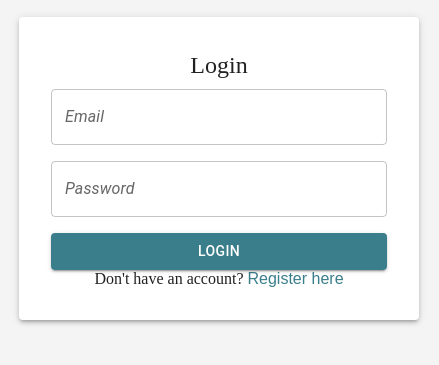
Test: LoginForm Component › shows error when email is not registered
The image size is (439, 365).
Type "nonexistent@example.com" into the field labelled "Email".
click(219, 117); type("nonexistent@example.com")  # box x1=51 y1=89 x2=387 y2=145
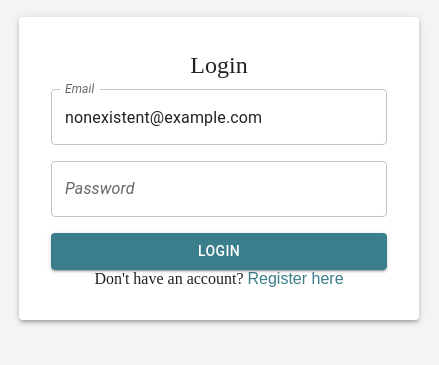
Type "password" into the password field labelled "Password".
click(219, 189); type("password")  # box x1=51 y1=161 x2=387 y2=217
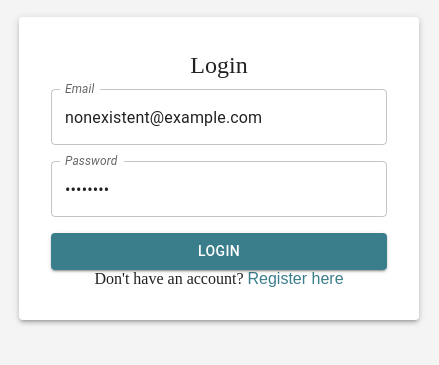
Click the button "Login".
click(219, 252)  # box x1=51 y1=233 x2=387 y2=270
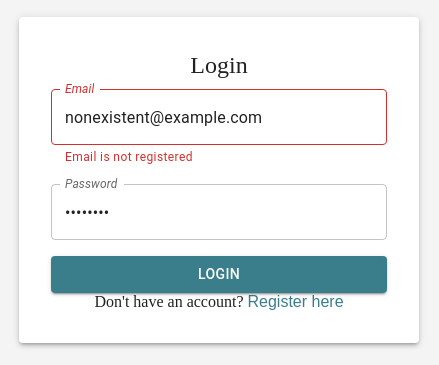
Expected: the text "Email is not registered" is shown, x1=65 y1=150 x2=193 y2=164
